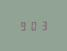nine: (18, 20, 27, 31)
three: (39, 19, 48, 30)
zero: (29, 20, 38, 30)
